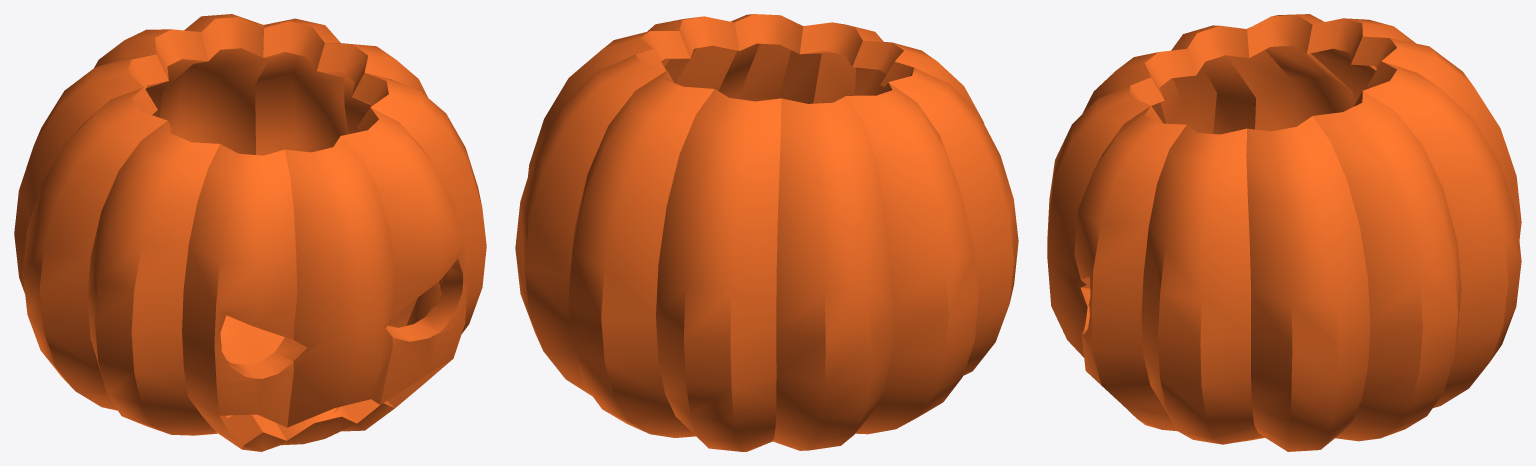
Rendered from jackolantern_big.gltf.glb.
3 views of the same model, side by side, from view 1: azimuth 30°, elevation 25°; view 2: azimuth 150°, elevation 25°; view 3: azimuth 270°, elevation 25° (orthographic). The views are drawn at different scales.
Visible parts, largest first — view 1: jackolantern_big; view 2: jackolantern_big; view 3: jackolantern_big.
Part boxes in pixels (<box>): jackolantern_big: <box>14,14,486,451</box>; jackolantern_big: <box>515,14,1018,451</box>; jackolantern_big: <box>1047,14,1521,451</box>.
Size of the model in its own units: 1.34 by 1.07 by 1.3.
